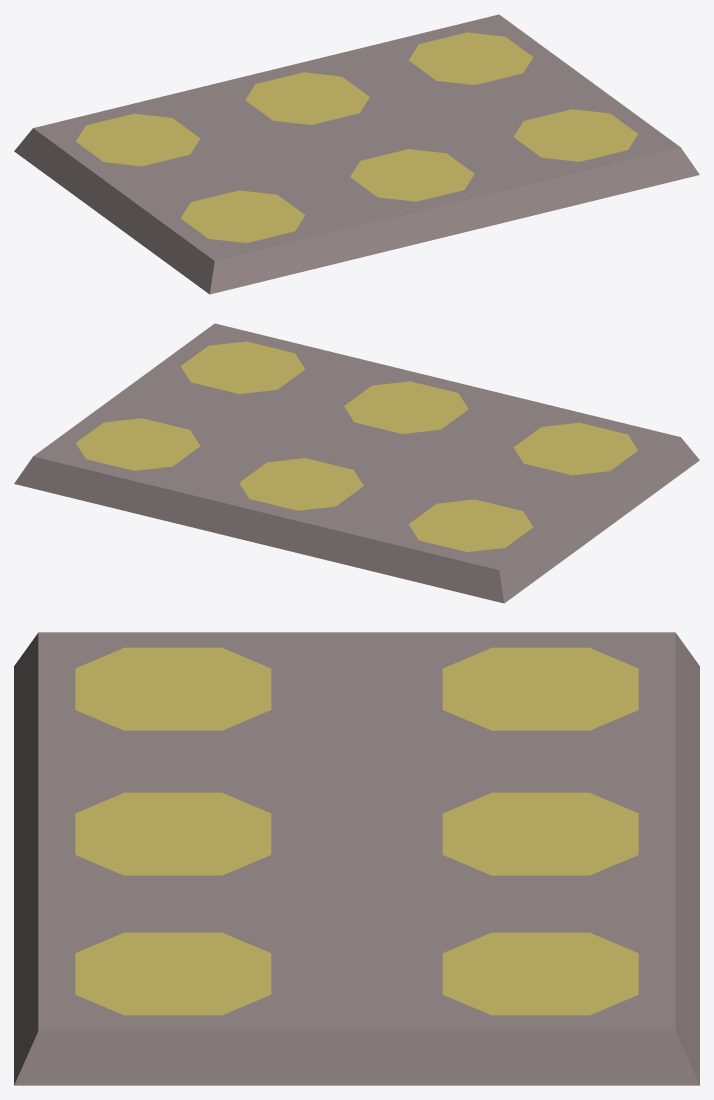
The model's file is inv_raw_crunchies.obj.
3 renders of one model, top to bottom at view 1: azimuth 30°, elevation 25°; view 2: azimuth 150°, elevation 25°; view 3: azimuth 270°, elevation 25°, orthographic. The views are drawn at different scales.
Bounding box in the file's own units: 0.6328 × 0.0312 × 0.4375.
